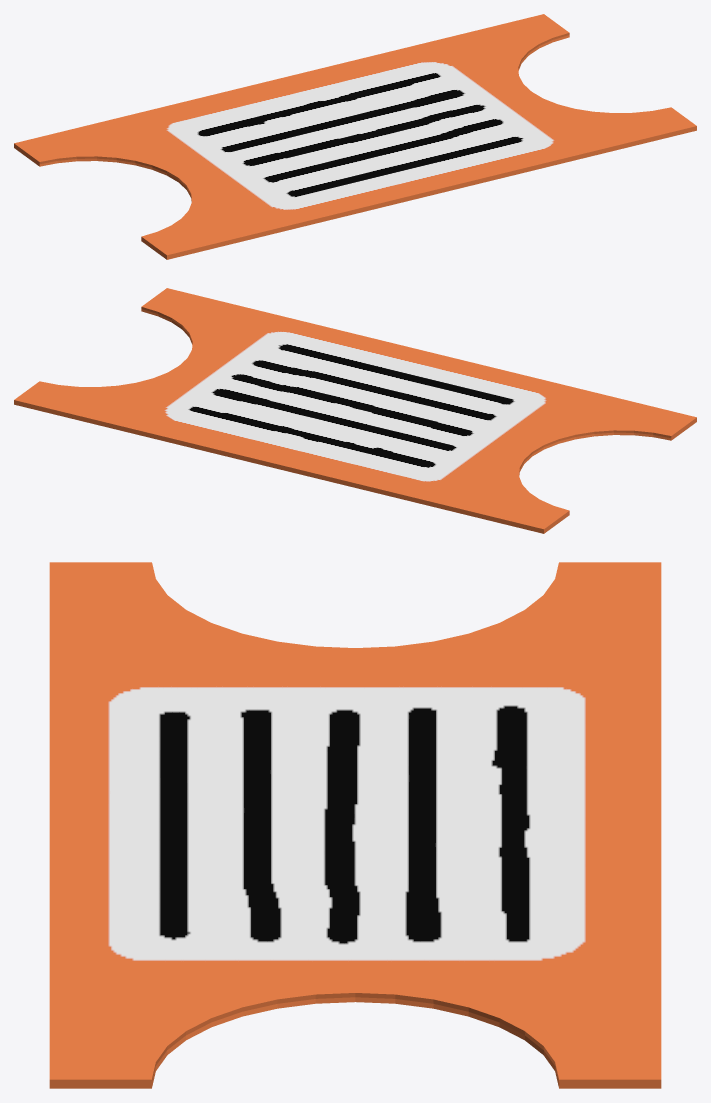
Rendered from Train Ticket.glb.
The picture shows the model from 3 angles, top to bottom: view 1: azimuth 30°, elevation 25°; view 2: azimuth 150°, elevation 25°; view 3: azimuth 270°, elevation 25°; orthographic projection. The views are drawn at different scales.
Parts seen in each view (by area): view 1: Cube; view 2: Cube; view 3: Cube.
Part boxes in pixels (x1=…): Cube: x1=14, y1=14, x2=696, y2=259; Cube: x1=14, y1=288, x2=696, y2=533; Cube: x1=49, y1=562, x2=661, y2=1088.
Bounding box in the file's own units: 1.2 × 0.01 × 0.6.
1 material, 1 textured.
